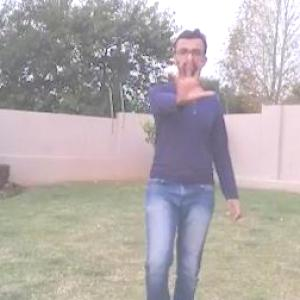follow_hand: (165, 48, 218, 105)
